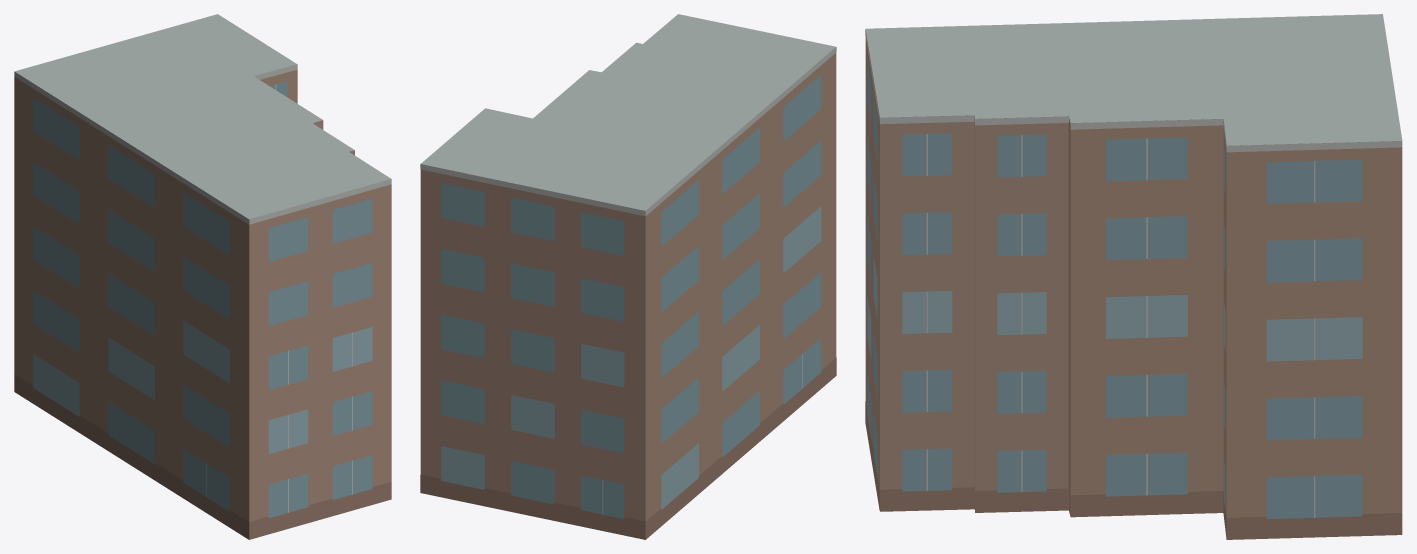
Rendered from survey-upis-32700981.glb.
3 views of the same model, side by side, from view 1: azimuth 30°, elevation 25°; view 2: azimuth 150°, elevation 25°; view 3: azimuth 270°, elevation 25° (orthographic). The views are drawn at different scales.
Parts seen in each view (by area): view 1: survey-upis-32700981.tmp; view 2: survey-upis-32700981.tmp; view 3: survey-upis-32700981.tmp.
Boxes of the visible parts, x1,y1,x2,y2 form: survey-upis-32700981.tmp: (14, 14, 391, 539); survey-upis-32700981.tmp: (420, 14, 836, 539); survey-upis-32700981.tmp: (865, 14, 1402, 539).
Bounding box in the file's own units: 10.56 × 14.7 × 18.16.
